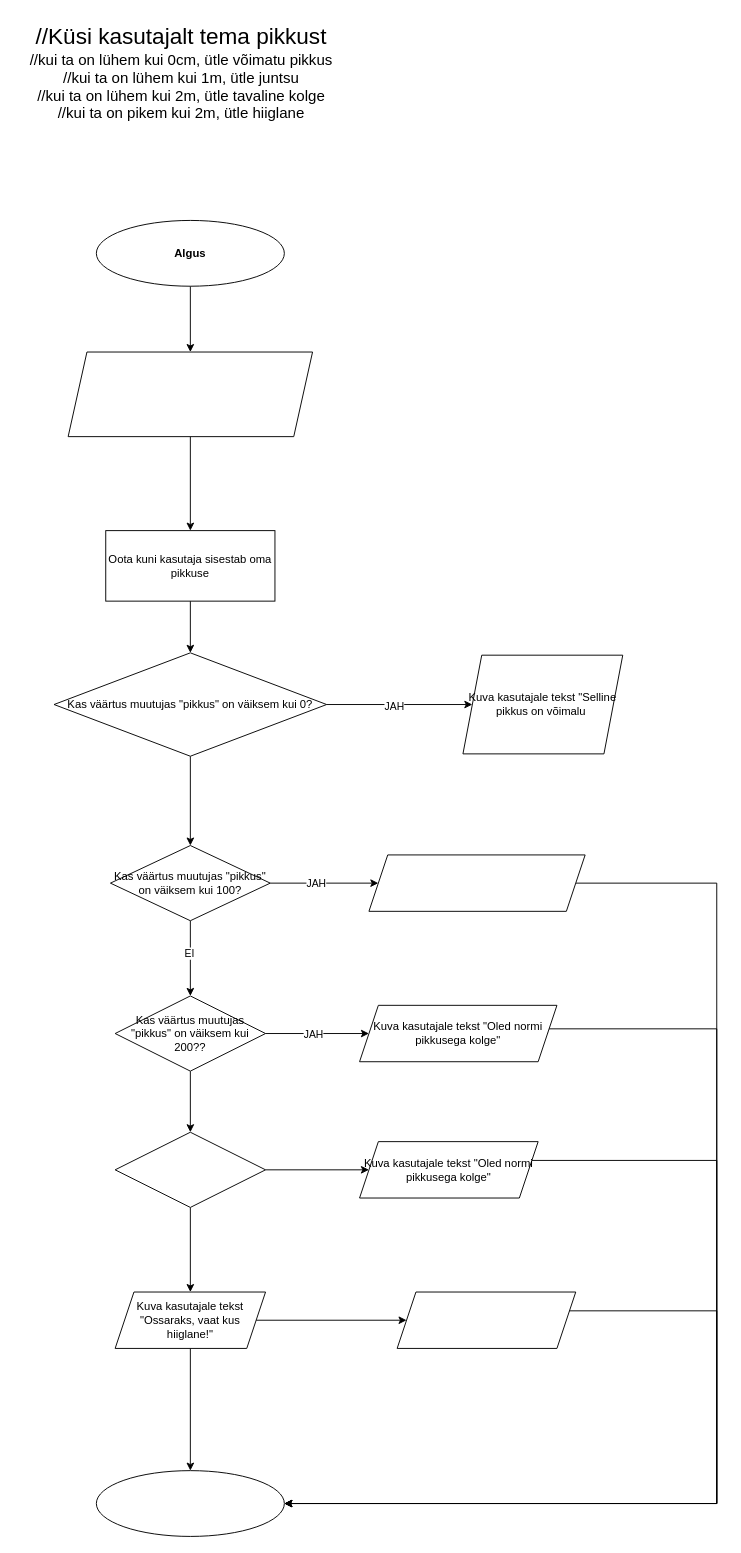
Some shapes in this 741 by 1553 pixel diagram are drawn without their labels. The centre of each missing label's shape, as x and y in pixels:
Kas väärtus muutujas "pikkus" on pikkus kui 200??: point (190, 1169)
Kuva kasutajale tekst "kui pikk sa oled? sisesta sentimeetrites": point (190, 394)
Kuva kasutajale tekst "Oled juntsu, hit the gym": point (476, 882)
Kuva kasutajale tekst "Ossaraks vaat kus hiiglane: point (486, 1319)
Lõpp: point (189, 1503)
